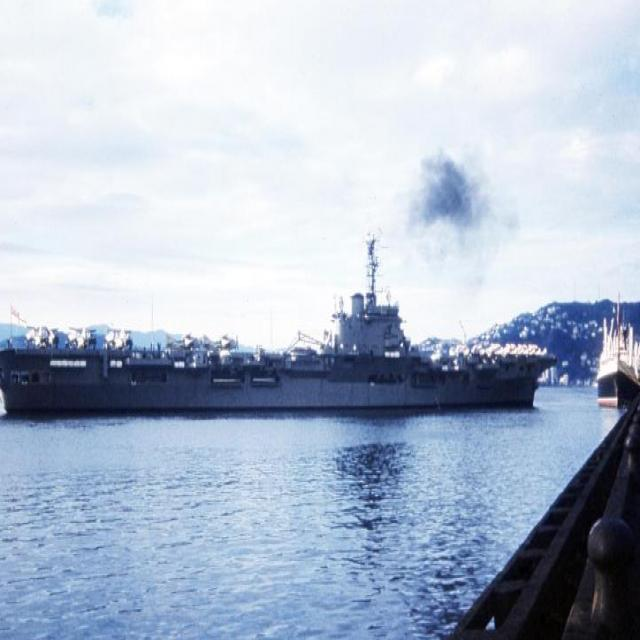Portanaves: (1, 231, 560, 431)
